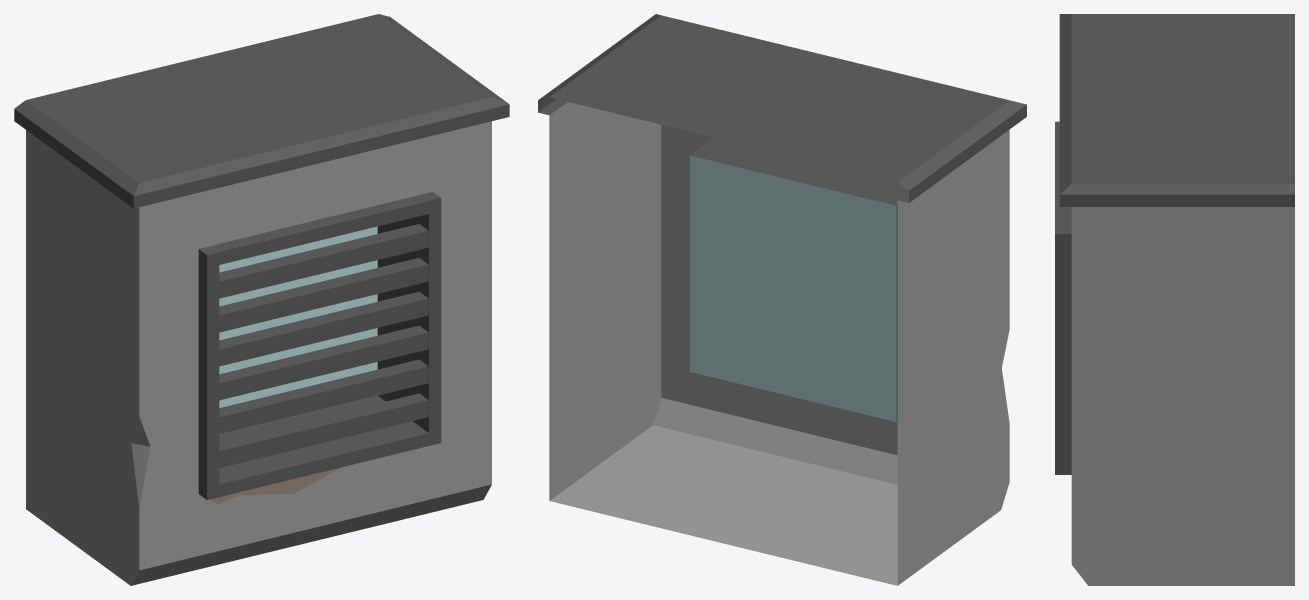
Rendered from SM_Buildings_Part_34.fbx.
The picture shows the model from 3 angles, left to right: view 1: azimuth 30°, elevation 25°; view 2: azimuth 150°, elevation 25°; view 3: azimuth 270°, elevation 25°; orthographic projection.
Visible parts, largest first — view 1: SM_Buildings_Part_34; view 2: SM_Buildings_Part_34; view 3: SM_Buildings_Part_34.
Boxes of the visible parts, bbox=[...] form: SM_Buildings_Part_34: bbox=[14, 14, 509, 585]; SM_Buildings_Part_34: bbox=[538, 14, 1026, 585]; SM_Buildings_Part_34: bbox=[1055, 14, 1294, 585].
Bounding box in the file's own units: 57.7 × 59.98 × 32.4.
